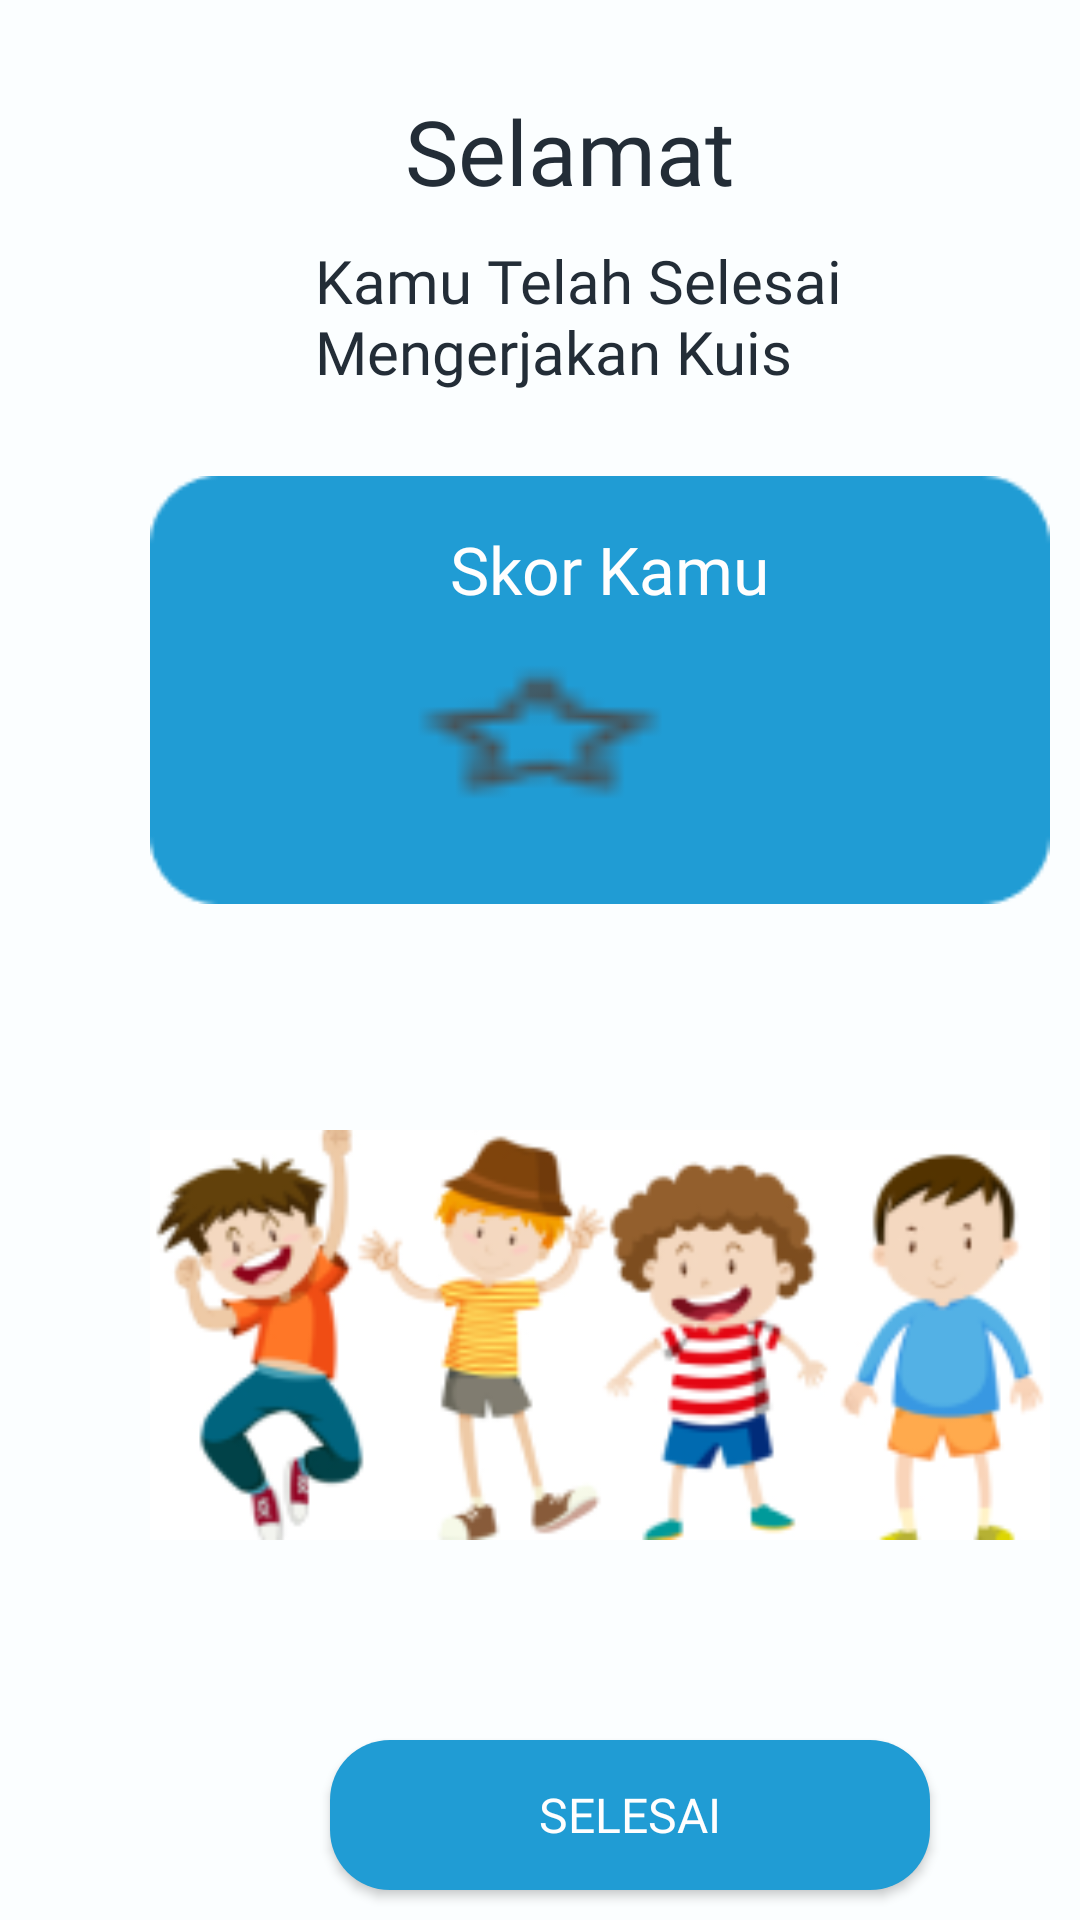

Point at icon controls on the screen. Image size 1080×1920, points as (x=x, y=y).
star: (x=540, y=733)
